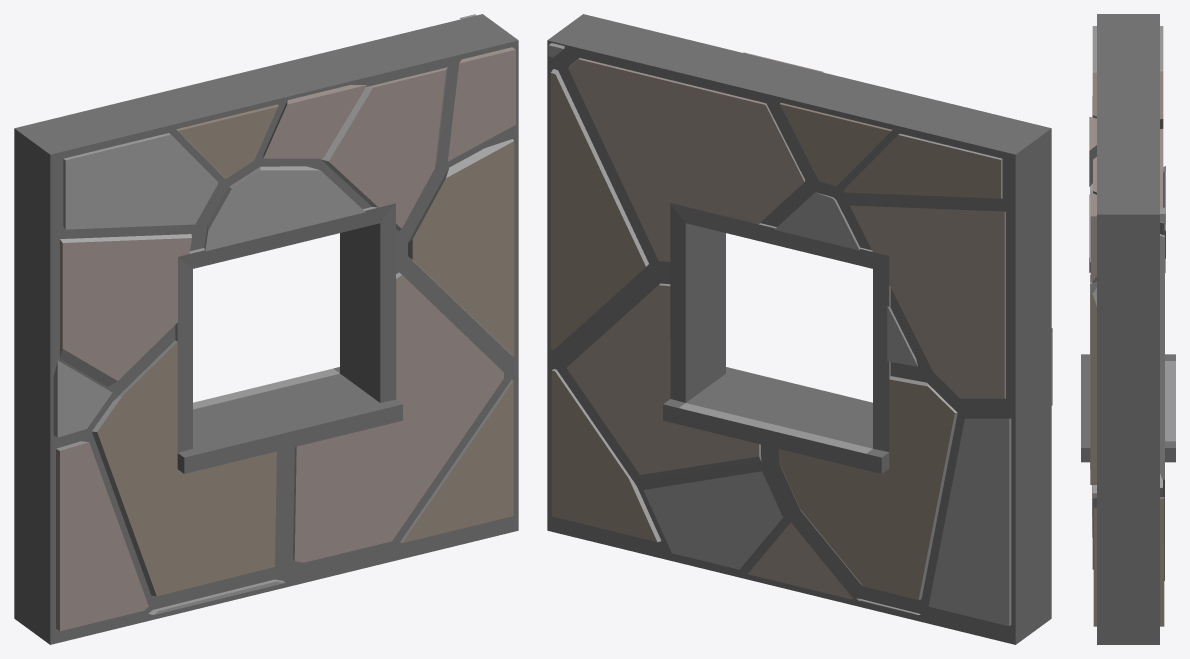
Rendered from enchantedforest_wall_stone_window_1.fbx.
3 renders of one model, left to right at view 1: azimuth 30°, elevation 25°; view 2: azimuth 150°, elevation 25°; view 3: azimuth 270°, elevation 25°, orthographic. The views are drawn at different scales.
Visible parts, largest first — view 1: Cube.008_cell.001; view 2: Cube.008_cell.001; view 3: Cube.008_cell.001.
Part boxes in pixels (<box>): Cube.008_cell.001: <box>14,14,518,644</box>; Cube.008_cell.001: <box>547,14,1052,644</box>; Cube.008_cell.001: <box>1081,14,1175,644</box>.
Bounding box in the file's own units: 3 × 3 × 0.6.
